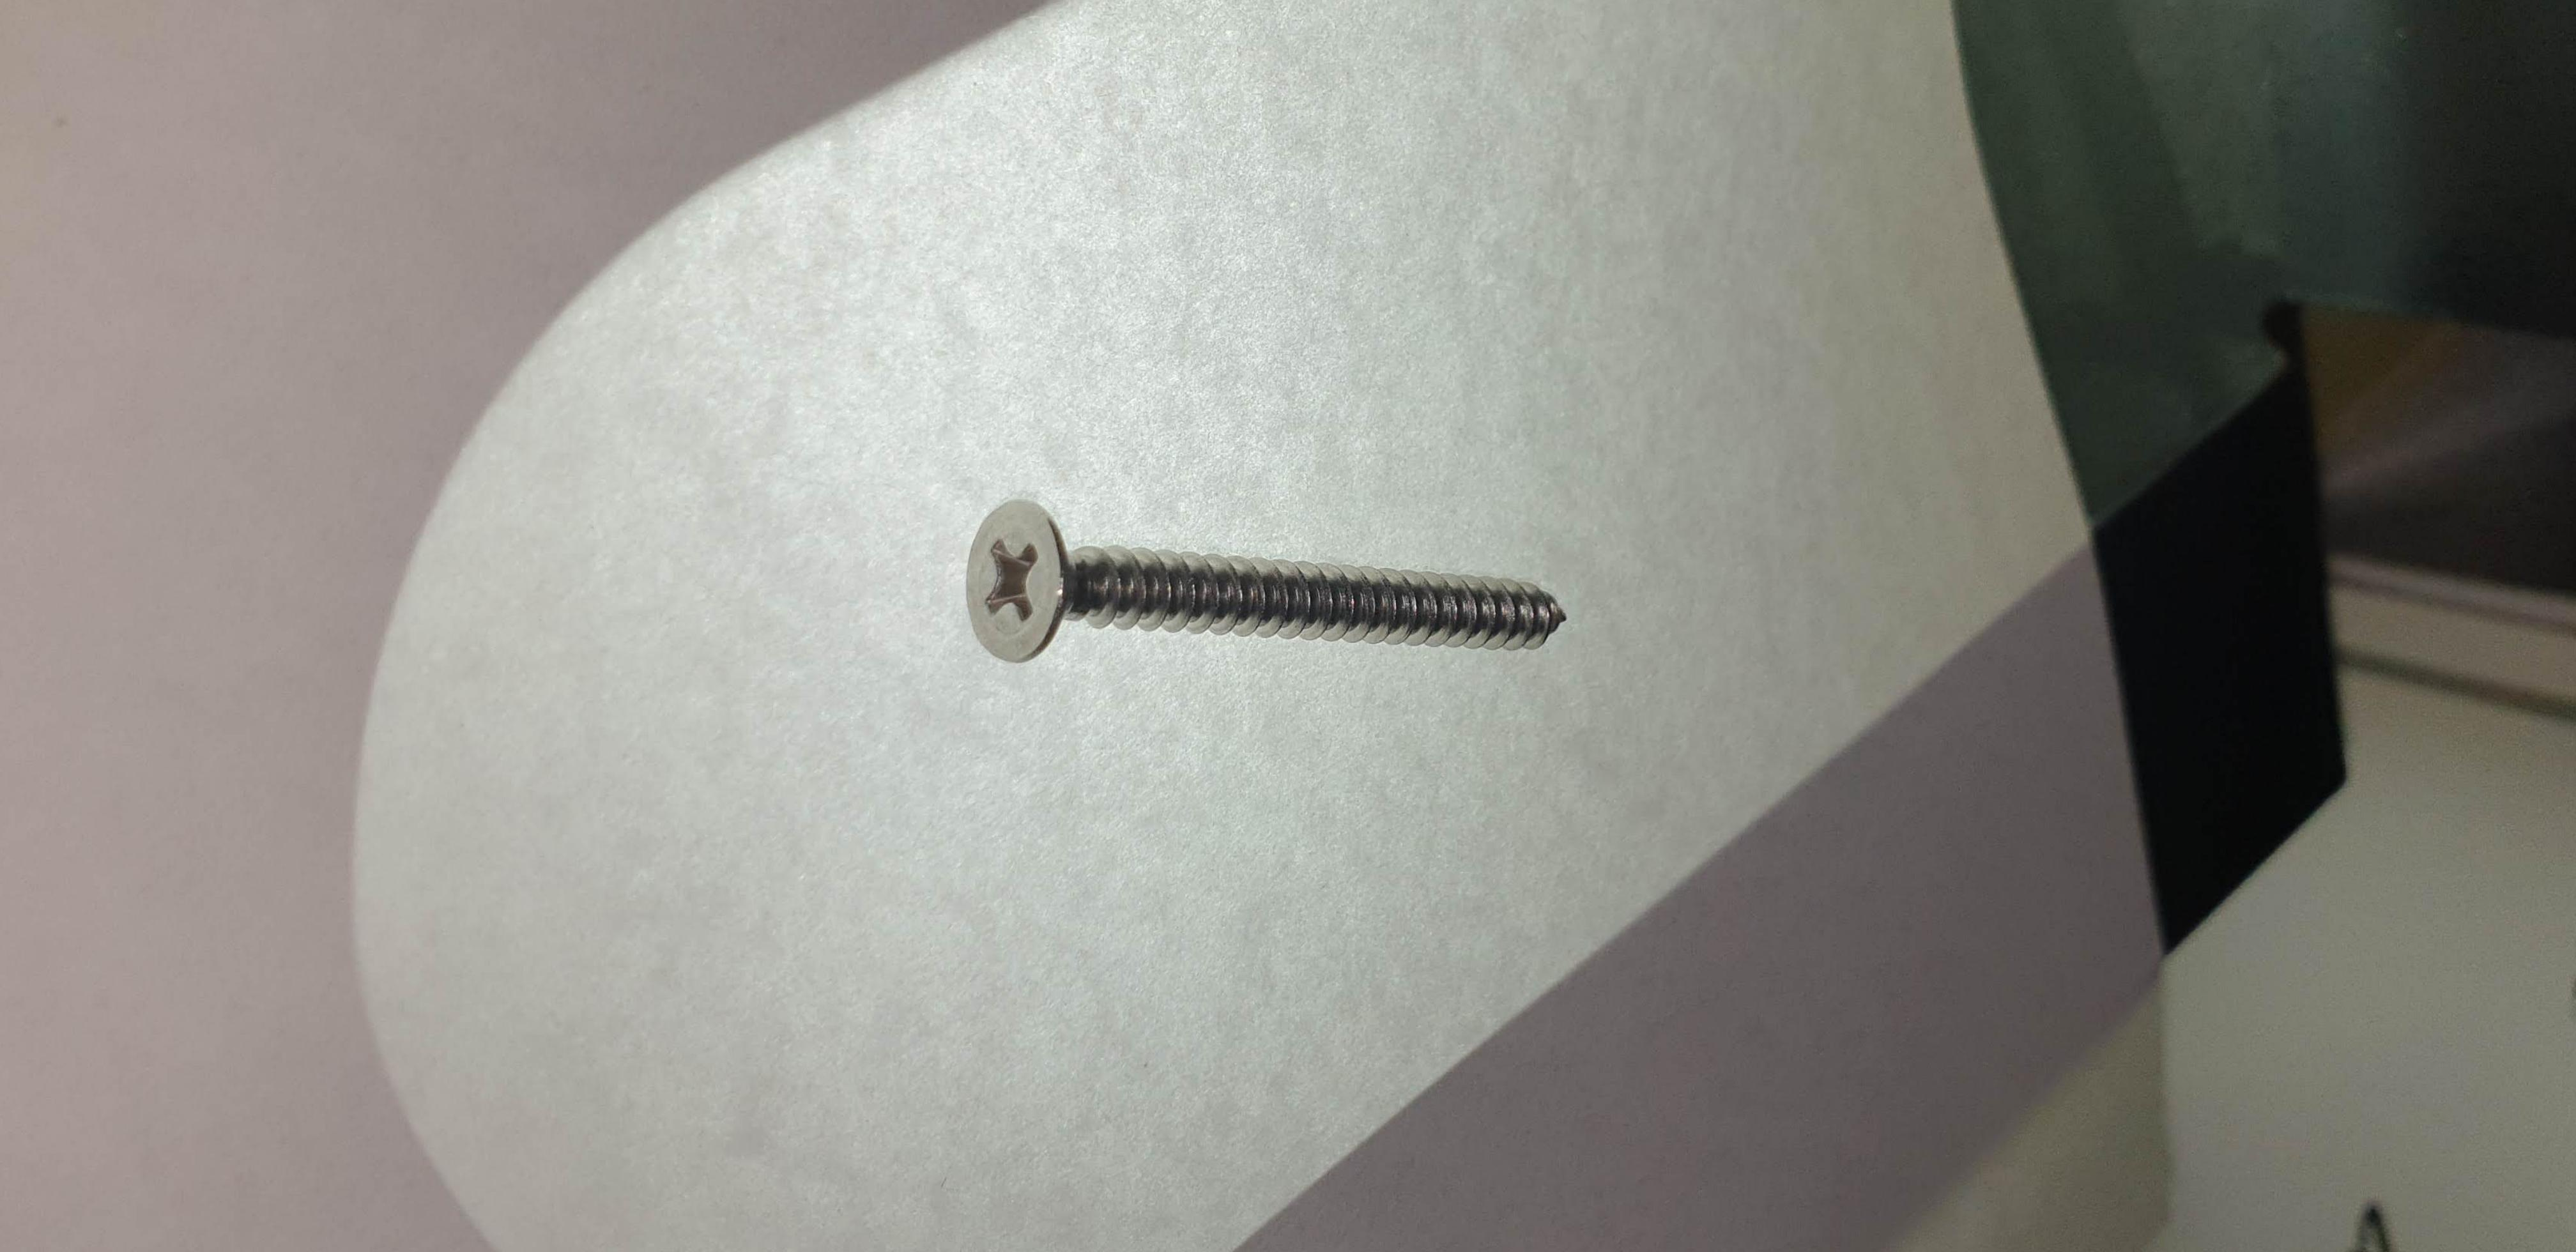fastener: (899, 468, 1643, 721)
